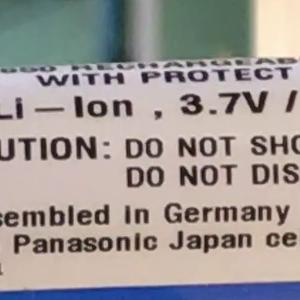keyword: (170, 81, 278, 125)
